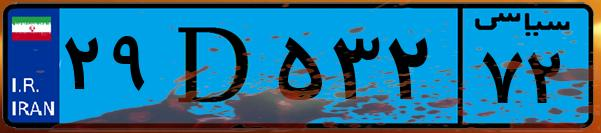2: (385, 28, 445, 110), (57, 26, 110, 100), (525, 38, 570, 115)
3: (330, 28, 385, 110)
5: (270, 28, 330, 110)
7: (475, 38, 525, 113)
9: (110, 28, 158, 98)
D: (158, 12, 270, 120)
